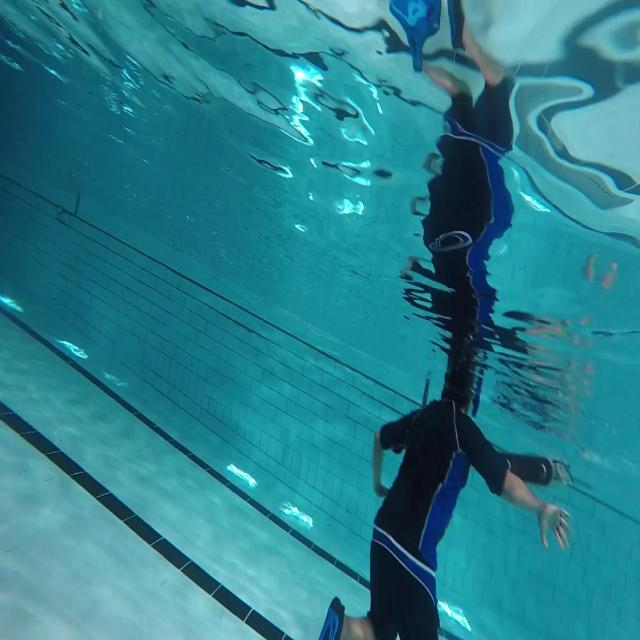human: (318, 391, 574, 638)
